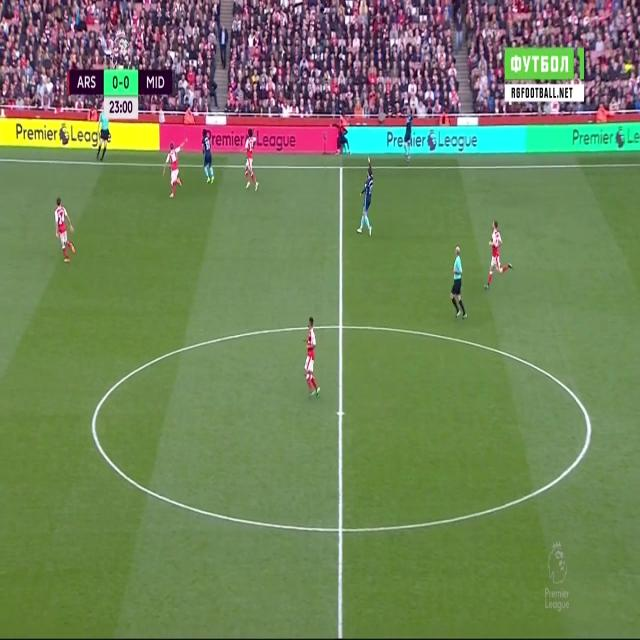Player: (482, 217, 514, 292), (160, 137, 190, 203), (355, 156, 377, 238), (302, 313, 321, 405), (54, 193, 77, 265), (242, 127, 262, 193), (200, 128, 217, 188), (401, 110, 414, 162)
Referee: (449, 242, 469, 324), (95, 102, 111, 162)
